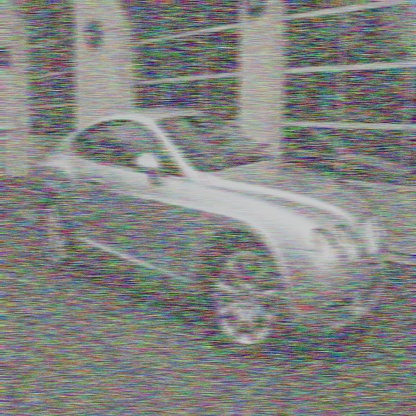Vehicle: (27, 104, 387, 356)
